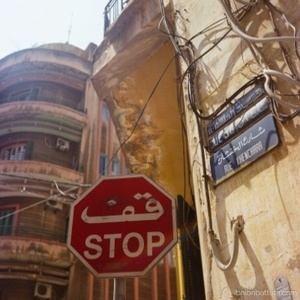stop: (68, 176, 176, 276)
